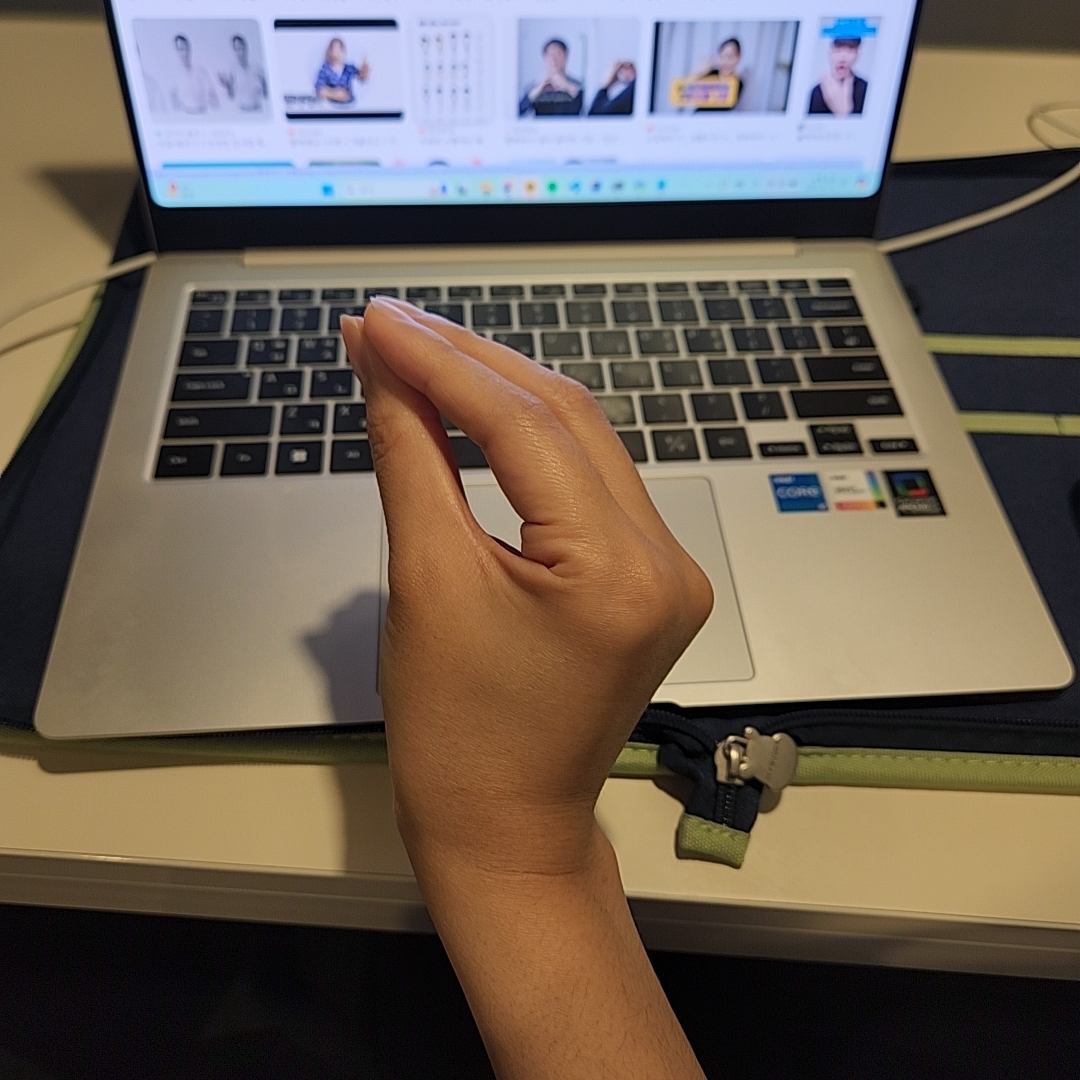happy: (340, 295, 720, 834)
